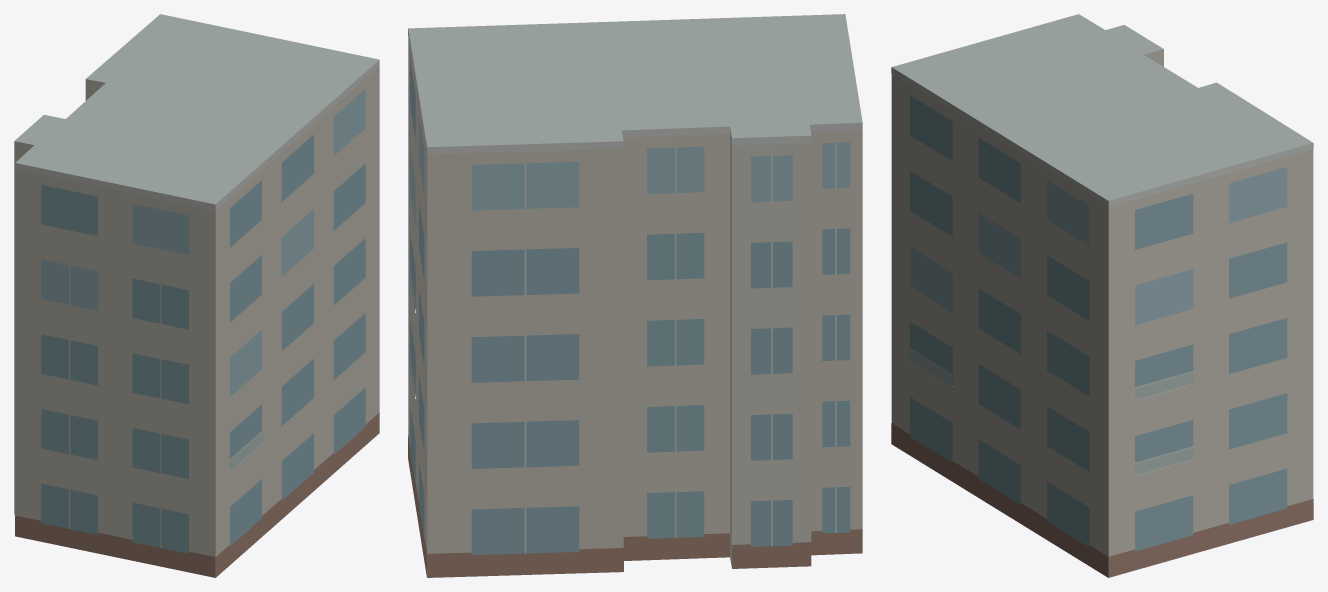
File: survey-upis-32882623.glb
The picture shows the model from 3 angles, left to right: view 1: azimuth 30°, elevation 25°; view 2: azimuth 150°, elevation 25°; view 3: azimuth 270°, elevation 25°; orthographic projection. The views are drawn at different scales.
Visible parts, largest first — view 1: survey-upis-32882623.tmp; view 2: survey-upis-32882623.tmp; view 3: survey-upis-32882623.tmp.
Part boxes in pixels (x1,y1,x2,y2): survey-upis-32882623.tmp: (14,14,379,577); survey-upis-32882623.tmp: (408,14,862,577); survey-upis-32882623.tmp: (891,14,1313,577).
Bounding box in the file's own units: 15.32 × 14.4 × 14.62.
